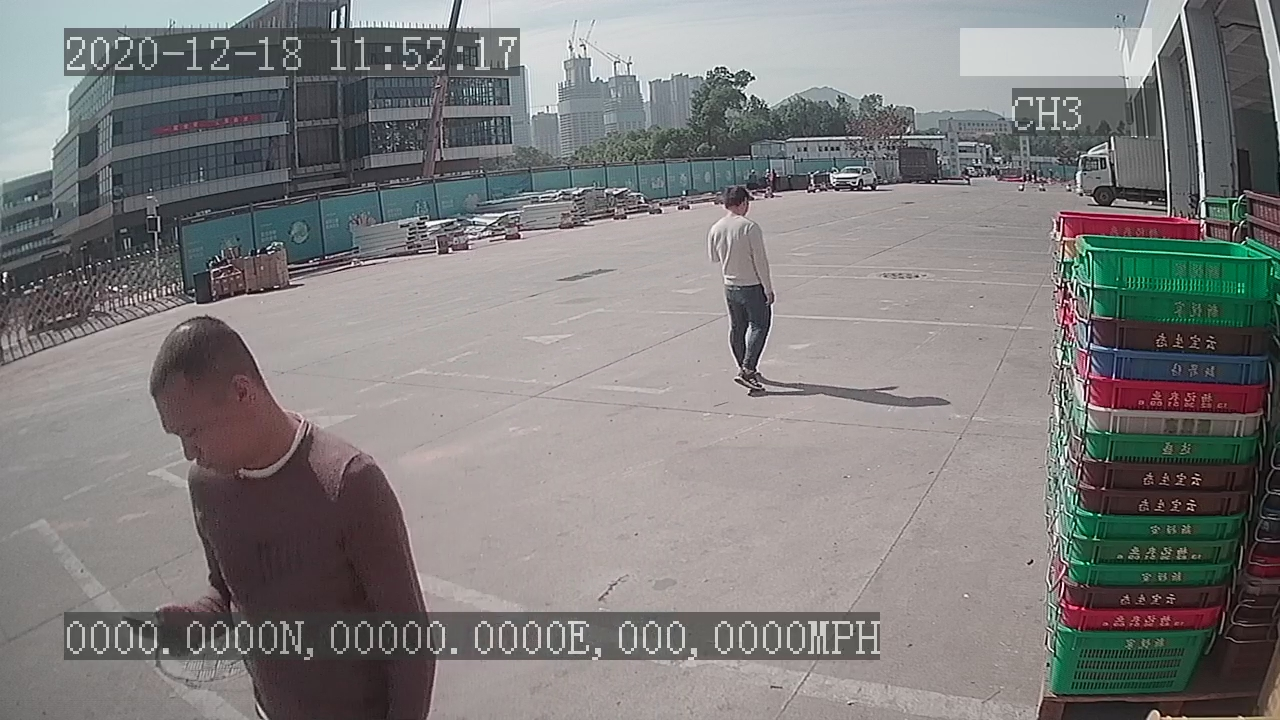person: (701, 181, 786, 401)
